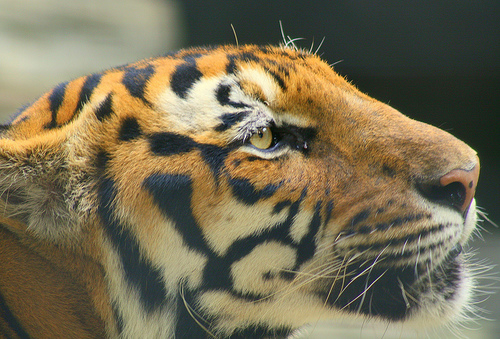Tigre: (14, 18, 480, 334)
